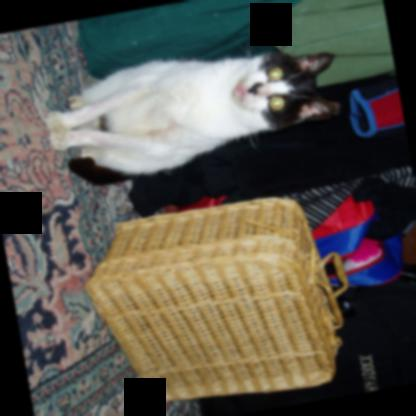suitcase: (87, 197, 349, 401), (194, 260, 416, 416)
